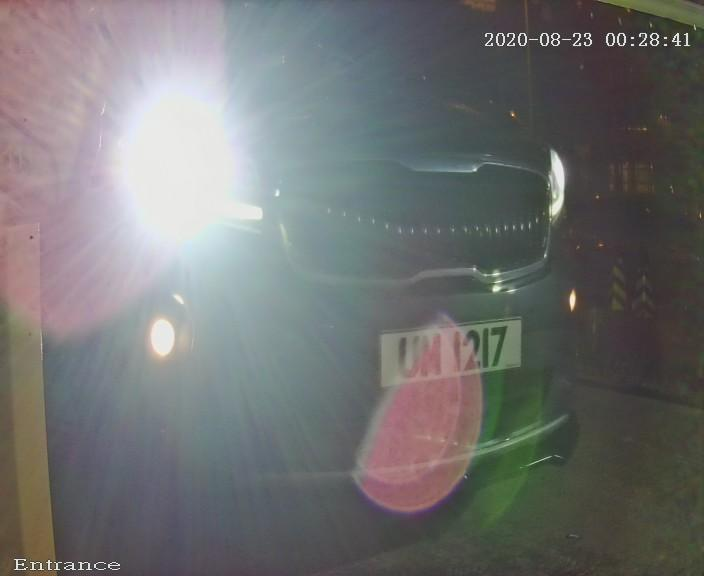Car: (1, 11, 667, 551)
License Plate: (353, 275, 548, 417)
